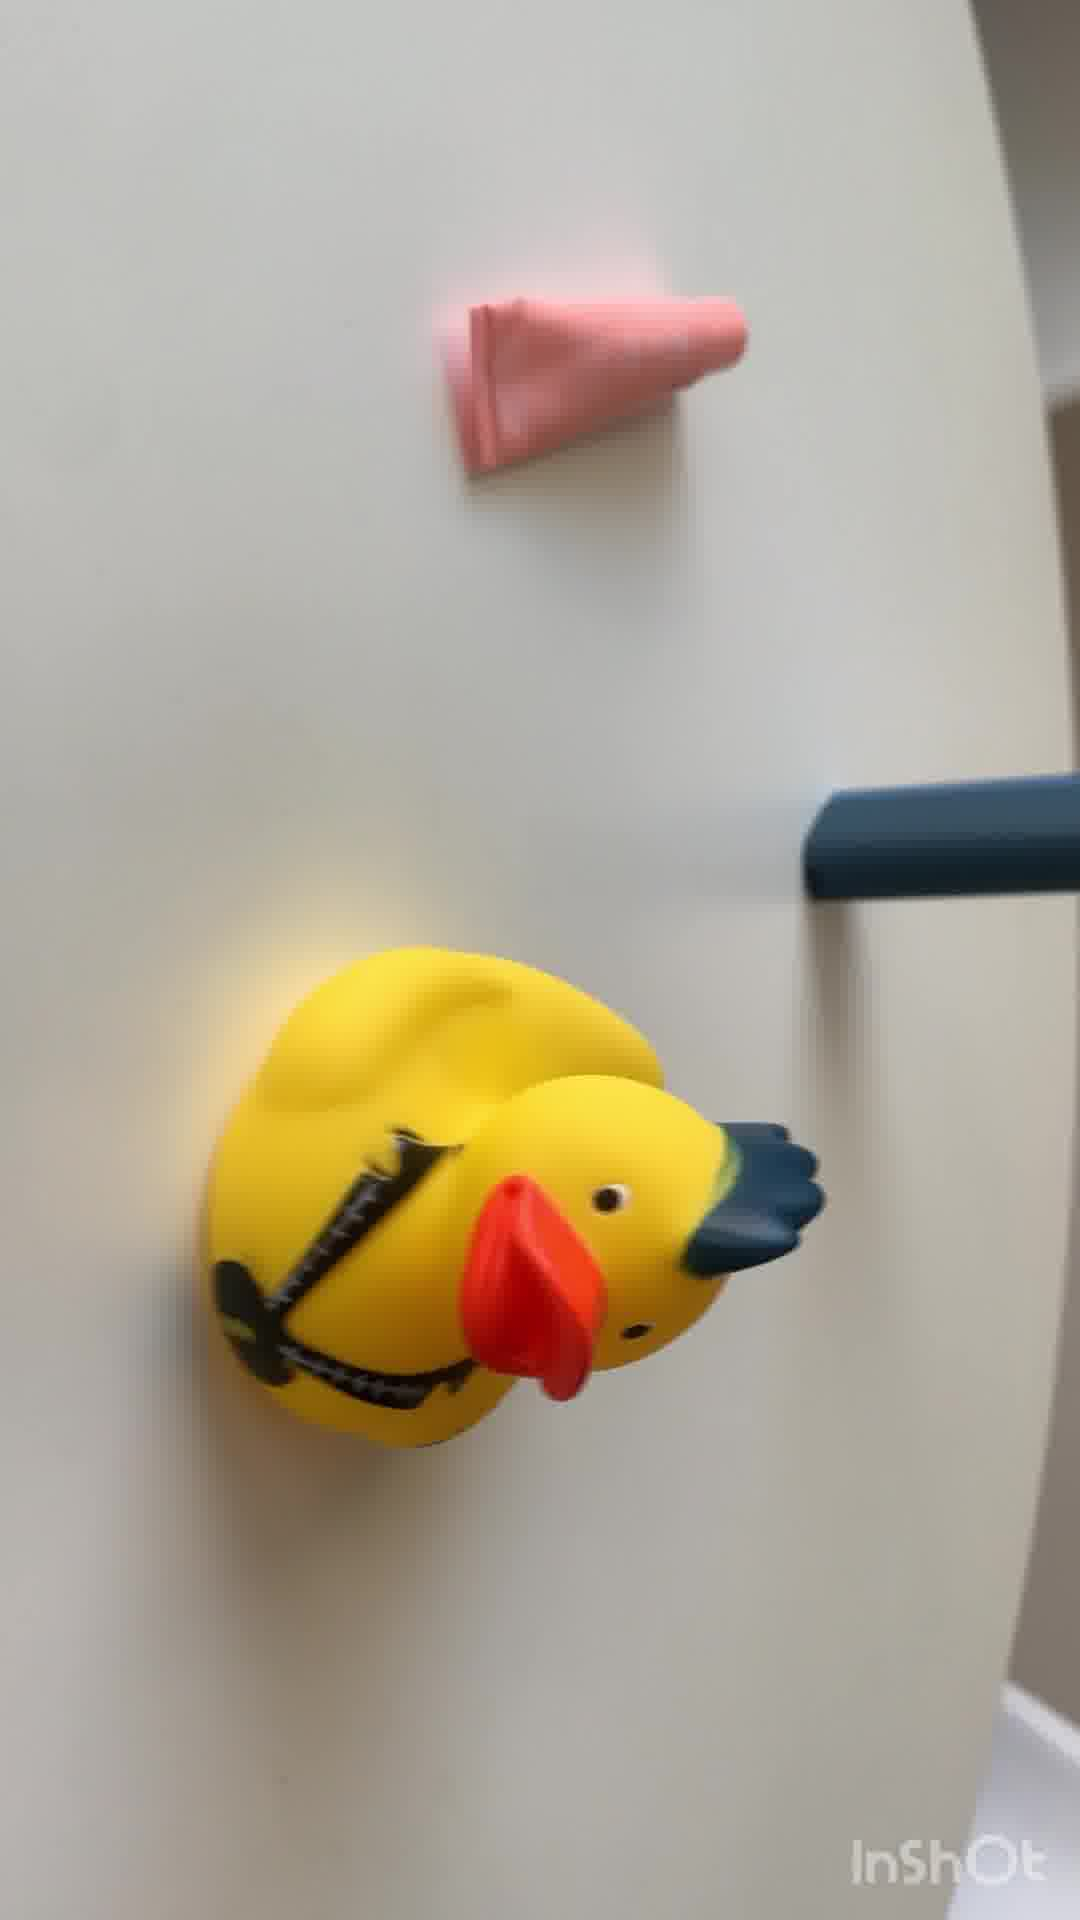duck: (193, 949, 828, 1466)
glo: (803, 769, 1080, 905)
lip balm: (462, 276, 749, 485)
